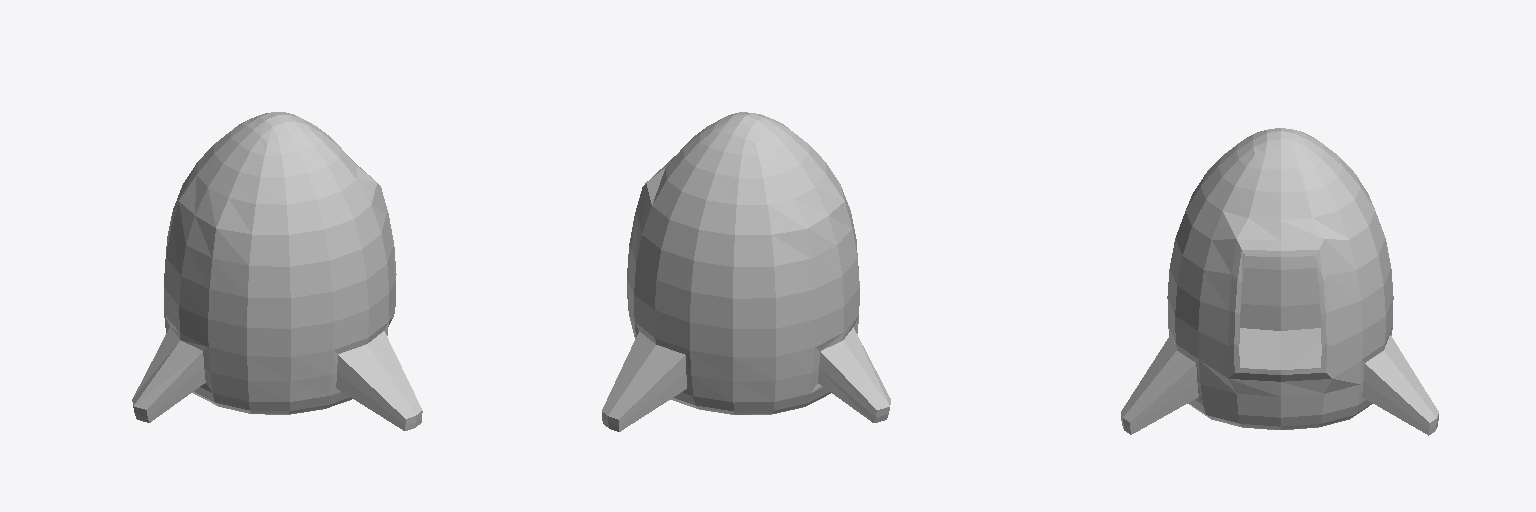
3 views of the same model, side by side, from view 1: azimuth 30°, elevation 25°; view 2: azimuth 150°, elevation 25°; view 3: azimuth 270°, elevation 25° (orthographic).
Visible parts, largest first — view 1: 立方体_立方体.001; view 2: 立方体_立方体.001; view 3: 立方体_立方体.001.
Part boxes in pixels (x1,y1,x2,y2): 立方体_立方体.001: (132, 112, 422, 430); 立方体_立方体.001: (602, 112, 890, 431); 立方体_立方体.001: (1121, 128, 1438, 435).
Size of the model in its own units: 3.71 by 3.92 by 4.18.